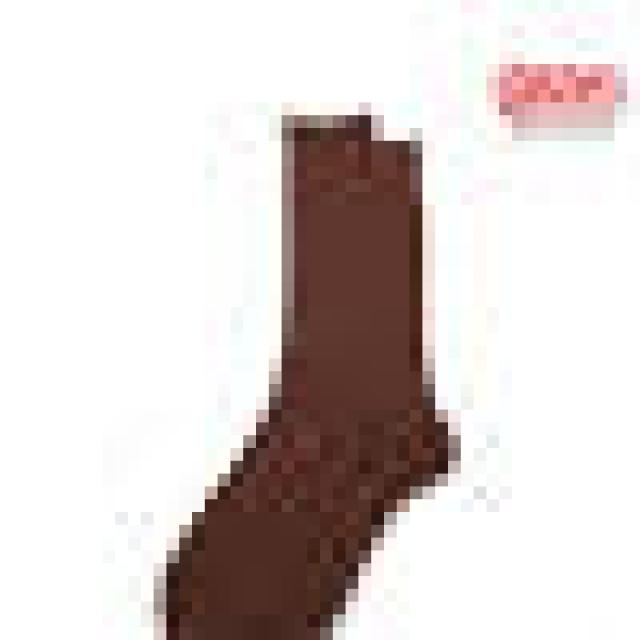sock: (154, 102, 448, 628)
